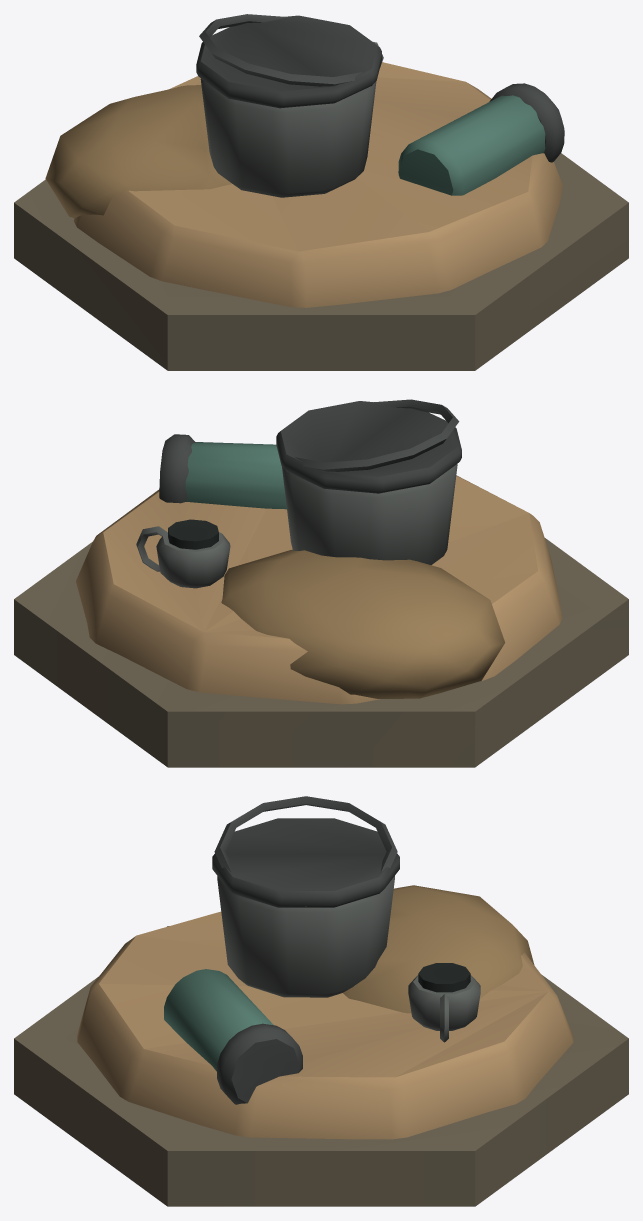
File: lunch_pail_a.glb
The picture shows the model from 3 angles, top to bottom: view 1: azimuth 30°, elevation 25°; view 2: azimuth 150°, elevation 25°; view 3: azimuth 270°, elevation 25°; orthographic projection.
Parts seen in each view (by area): view 1: Surface; view 2: Surface; view 3: Surface.
Boxes of the visible parts, x1=… form: Surface: x1=14, y1=14, x2=628, y2=370; Surface: x1=14, y1=399, x2=628, y2=767; Surface: x1=14, y1=796, x2=628, y2=1206.
Bounding box in the file's own units: 2.6 × 1.31 × 3.
